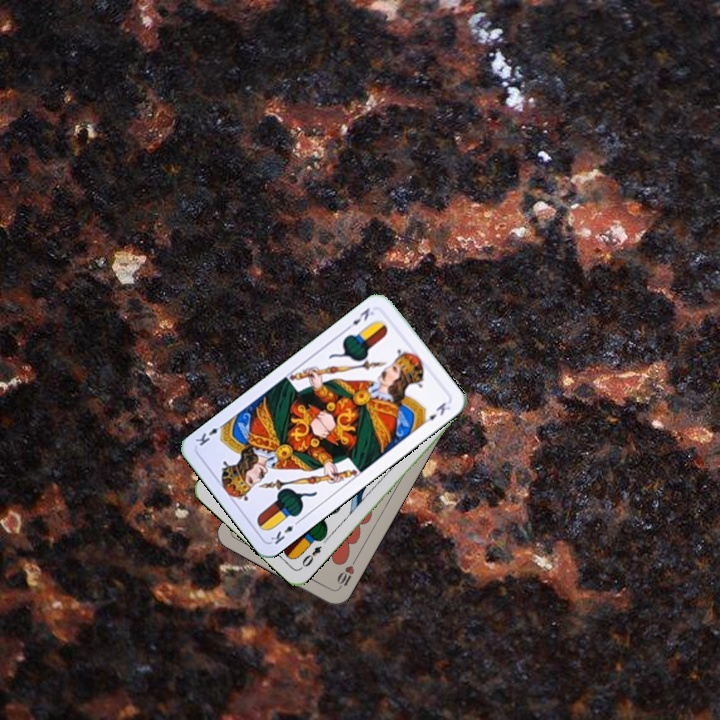EK: (266, 516, 303, 547), (342, 303, 377, 333)
EO: (296, 542, 324, 572)
H10: (333, 555, 359, 593)
